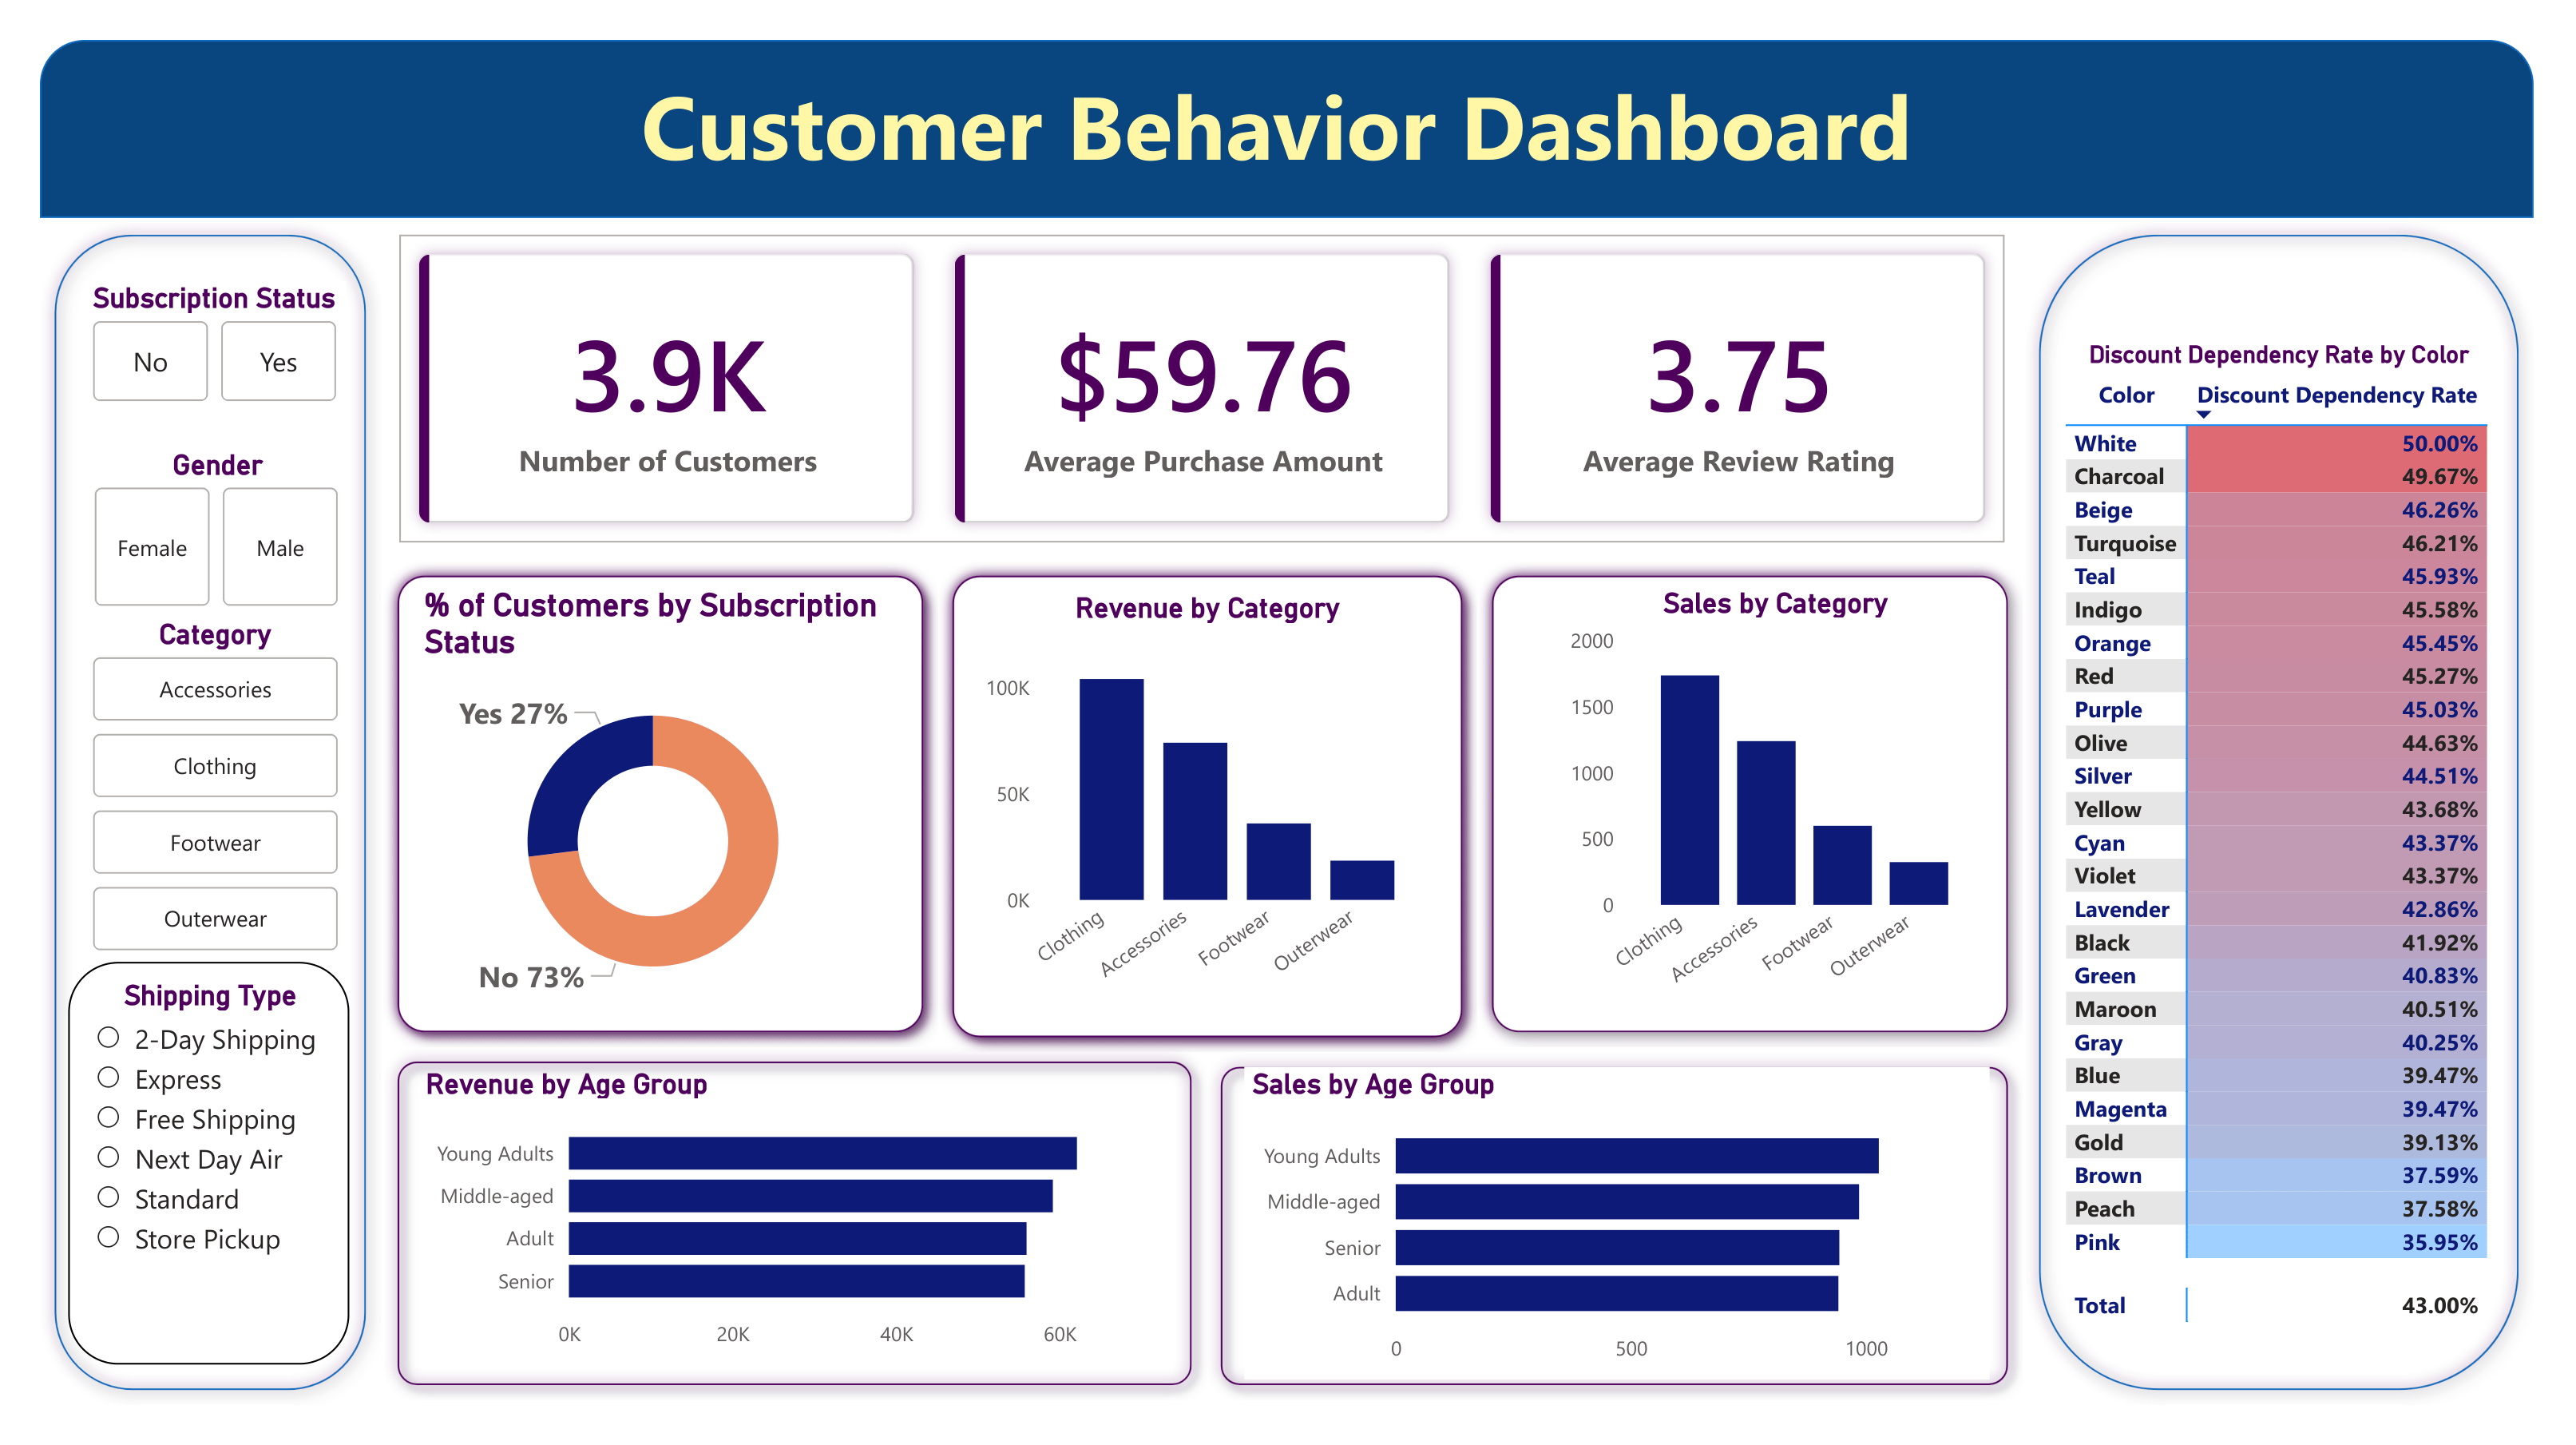

Layout of this report page (visuals, bound fields, positions):
{"tool":"powerbi","page":{"name":"Customer Behavior","canvas":[1500,820],"ordinal":0},"visuals":[{"type":"cardVisual","fields":{"Data":["public customer.Number of Customers","public customer.Average Purchase Amount","public customer.Average Review Rating"]},"box":[205.7,107.3,986.7,205.7],"z":0},{"type":"shape","box":[0,0,1499.4,107.3],"z":1000},{"type":"textbox","box":[98.4,8.9,1290.8,86.4],"z":2000},{"type":"shape","box":[205.7,313,333.9,292.1],"z":3000},{"type":"donutChart","title":"% of Customers by Subscription Status","fields":{"Category":["public customer.subscription_status"],"Y":["public customer.Number of Customers"]},"box":[226.4,328.1,284.2,263.4],"z":4000},{"type":"shape","box":[539.6,313,324.9,295.1],"z":5000},{"type":"shape","box":[864.5,313,327.9,292.1],"z":6000},{"type":"clusteredColumnChart","title":"Revenue by Category","fields":{"Y":["Sum(public customer.purchase_amount)"],"Category":["public customer.category"]},"box":[563.4,330.9,277.2,256.4],"z":7000},{"type":"clusteredColumnChart","title":"Sales by Category","fields":{"Y":["public customer.Number of Customers"],"Category":["public customer.category"]},"box":[915.2,327.9,256.4,262.3],"z":8000},{"type":"shape","box":[0,107.7,205.4,712.6],"z":9000},{"type":"advancedSlicerVisual","title":"Subscription Status","fields":{"Values":["public customer.subscription_status"]},"box":[26.9,144.5,157.3,100.6],"z":10000},{"type":"advancedSlicerVisual","title":"Gender","fields":{"Values":["public customer.gender"]},"box":[28.3,245.1,157.3,102],"z":11000},{"type":"advancedSlicerVisual","title":"Category","fields":{"Values":["public customer.category"]},"box":[26.9,347.1,157.3,206.8],"z":12000},{"type":"listSlicer","title":"Shipping Type","fields":{"Values":["public customer.shipping_type"]},"box":[17,553.9,168.6,242.3],"z":13000},{"type":"clusteredBarChart","title":"Revenue by Age Group","fields":{"Category":["public customer.age_group"],"Y":["Sum(public customer.purchase_amount)"]},"box":[226.6,617.1,450.1,178.9],"z":14000},{"type":"shape","box":[205.7,605.1,494.8,211.7],"z":15000},{"type":"shape","box":[700.5,608.1,491.9,208.7],"z":16000},{"type":"clusteredBarChart","title":"Sales by Age Group","fields":{"Category":["public customer.age_group"],"Y":["public customer.Number of Customers"]},"box":[724.4,617.1,447.1,187.8],"z":17000},{"type":"pivotTable","title":"Discount Dependency Rate by Color","fields":{"Rows":["public customer.color"],"Values":["public customer.Discount Dependency Rate"]},"box":[1212.7,181.3,266.3,604.9],"z":18000},{"type":"shape","box":[1192.9,107.7,306,712.6],"z":19000}]}

Visuals, with their boxes in screenshot pixels (x1, y1, x2, y2):
cardVisual - public customer.Number of Customers x public customer.Average Purchase Amount: {"left": 396, "top": 209, "right": 2008, "bottom": 545}
shape: {"left": 61, "top": 34, "right": 2510, "bottom": 209}
textbox: {"left": 221, "top": 48, "right": 2330, "bottom": 189}
shape: {"left": 396, "top": 545, "right": 941, "bottom": 1022}
"% of Customers by Subscription Status" donutChart: {"left": 430, "top": 570, "right": 894, "bottom": 1000}
shape: {"left": 941, "top": 545, "right": 1472, "bottom": 1027}
shape: {"left": 1472, "top": 545, "right": 2008, "bottom": 1022}
"Revenue by Category" clusteredColumnChart: {"left": 981, "top": 574, "right": 1433, "bottom": 993}
"Sales by Category" clusteredColumnChart: {"left": 1556, "top": 570, "right": 1974, "bottom": 998}
shape: {"left": 61, "top": 209, "right": 396, "bottom": 1374}
"Subscription Status" advancedSlicerVisual: {"left": 105, "top": 270, "right": 361, "bottom": 434}
"Gender" advancedSlicerVisual: {"left": 107, "top": 434, "right": 363, "bottom": 601}
"Category" advancedSlicerVisual: {"left": 105, "top": 601, "right": 361, "bottom": 939}
"Shipping Type" listSlicer: {"left": 88, "top": 939, "right": 363, "bottom": 1335}
"Revenue by Age Group" clusteredBarChart: {"left": 430, "top": 1042, "right": 1166, "bottom": 1334}
shape: {"left": 396, "top": 1022, "right": 1205, "bottom": 1368}
shape: {"left": 1205, "top": 1027, "right": 2008, "bottom": 1368}
"Sales by Age Group" clusteredBarChart: {"left": 1244, "top": 1042, "right": 1974, "bottom": 1349}
"Discount Dependency Rate by Color" pivotTable: {"left": 2041, "top": 330, "right": 2476, "bottom": 1318}
shape: {"left": 2009, "top": 209, "right": 2509, "bottom": 1374}
